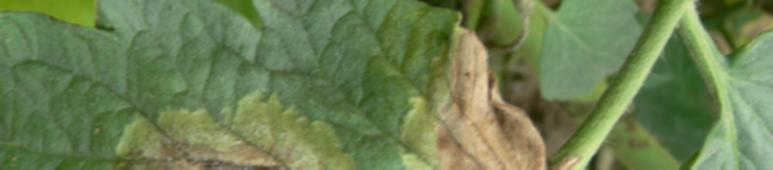Tomato leaf late blight: (0, 0, 617, 170)
